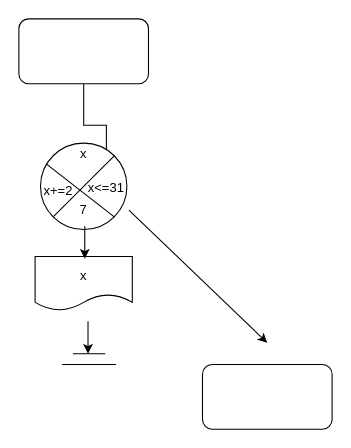
Image size: 351x448. Some labels were removed from this diagram. Each missing label, with the centre of its shape:
"START" belongs at [83,51].
"STOP" belongs at [266,396].
